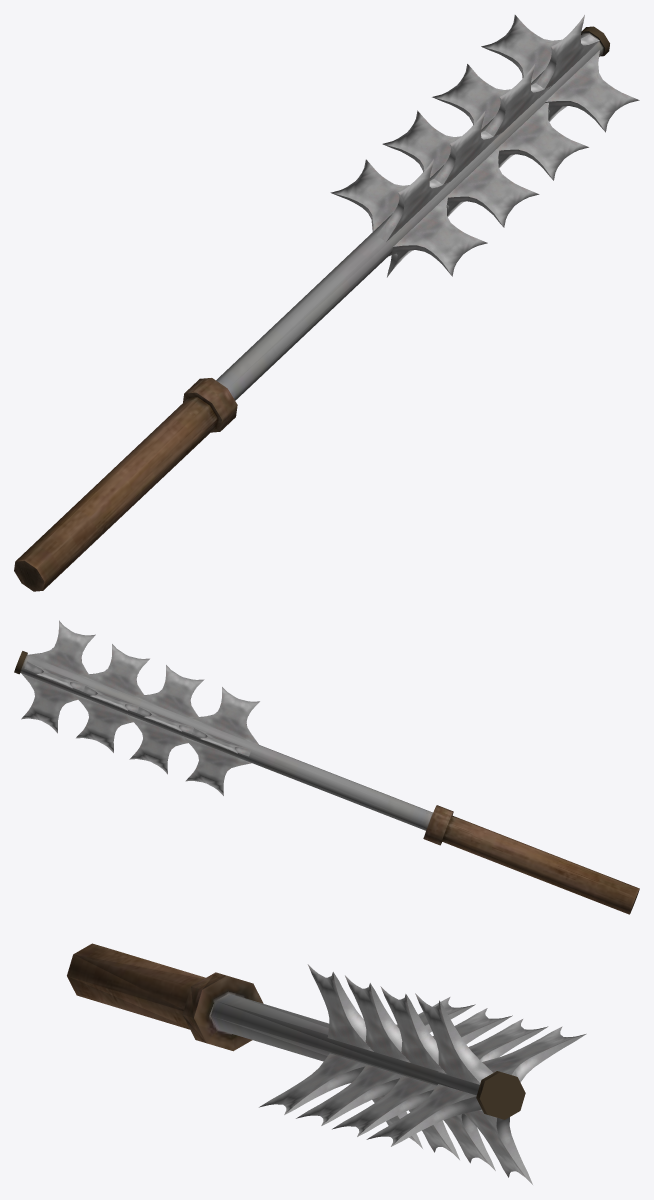
The model's file is weapon-ironweapons.glb.
3 views of the same model, one above another, from view 1: azimuth 30°, elevation 25°; view 2: azimuth 150°, elevation 25°; view 3: azimuth 270°, elevation 25° (orthographic). The views are drawn at different scales.
Bounding box in the file's own units: 1.56 × 0.6745 × 0.6692.
1 material, 1 textured.
